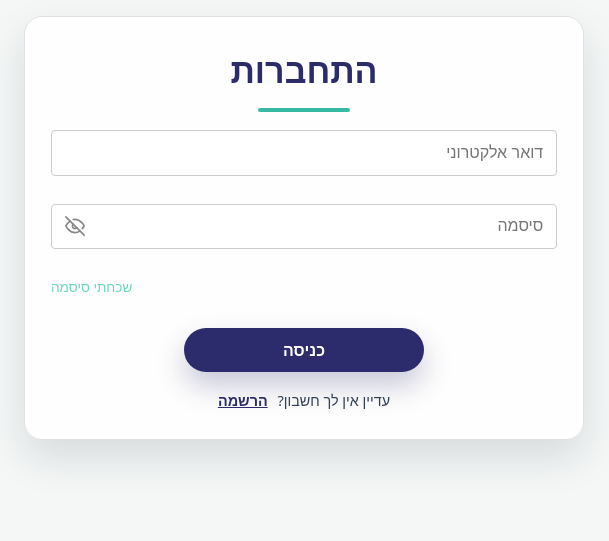
Scenario: Error handling › shows translated error on invalid credentials (401)
In the field with placeholder "דואר אלקטרוני": x=304, y=153 [51,130,557,176], type "a@b.com"
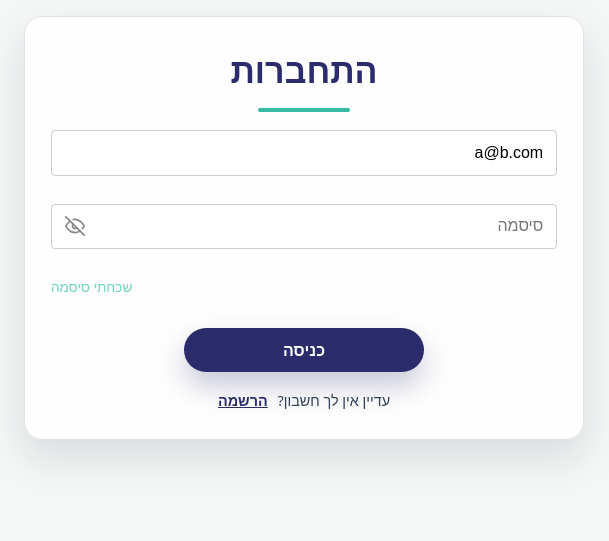
In the password field with placeholder "סיסמה": x=304, y=226 [51,204,557,249], type "12345678"
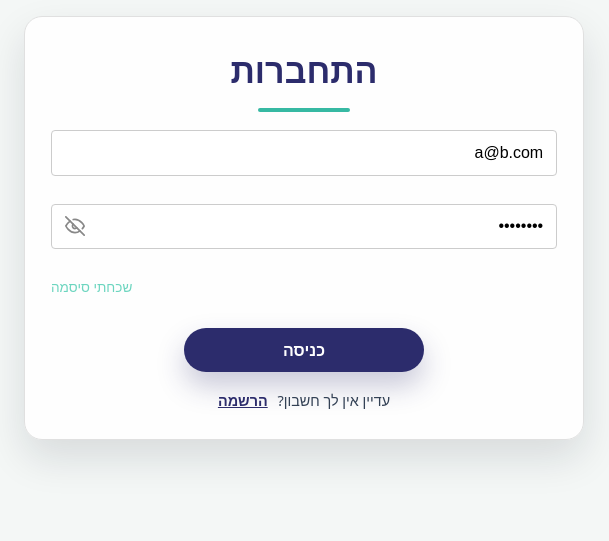
Click the button "כניסה": x=304, y=350 [184,328,424,372]
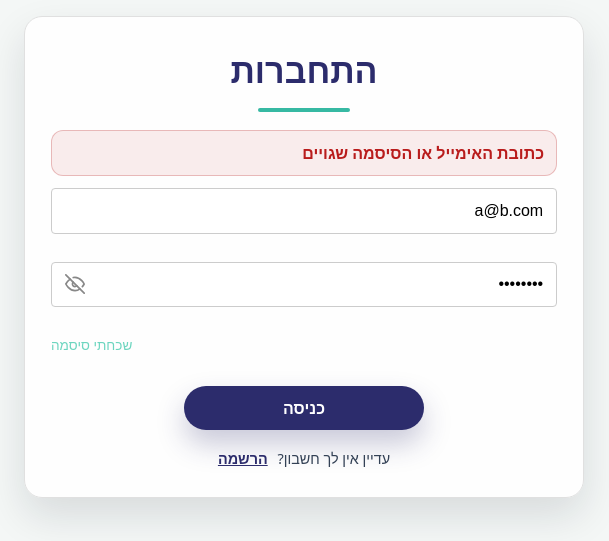
Check: the text "כתובת האימייל או הסיסמה שגויים" is shown, box [51,130,557,176]
